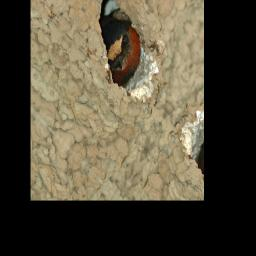Swallow: (83, 2, 151, 93)
